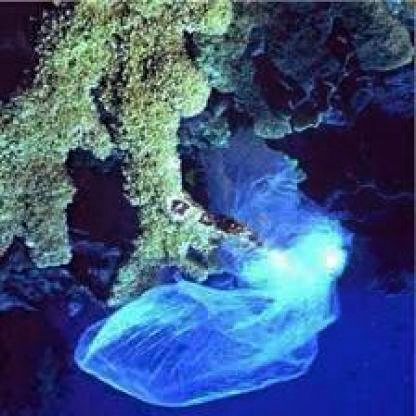pbag: (74, 120, 351, 409)
